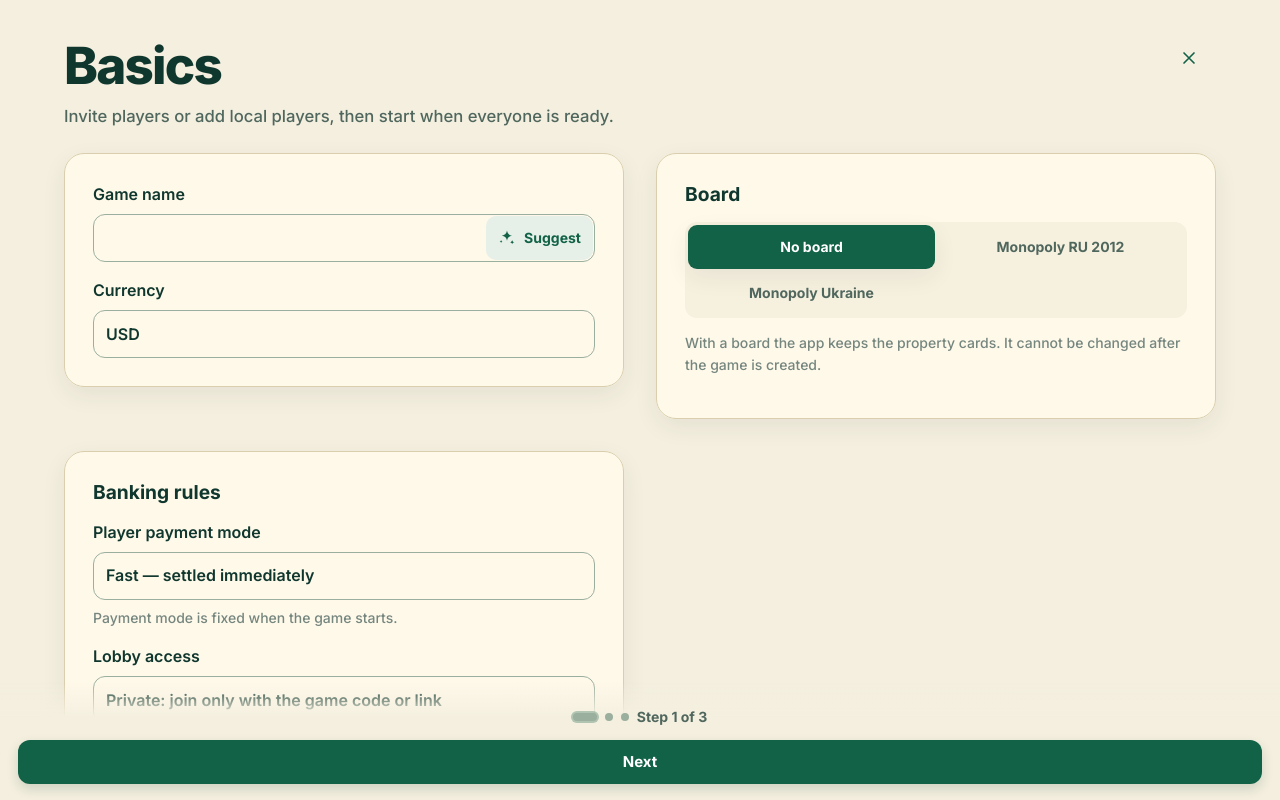
it: house rules › lists every rule unchecked by default
Type "Friday table" into the field labelled "Game name" at (344, 238), box [93,214,595,262]
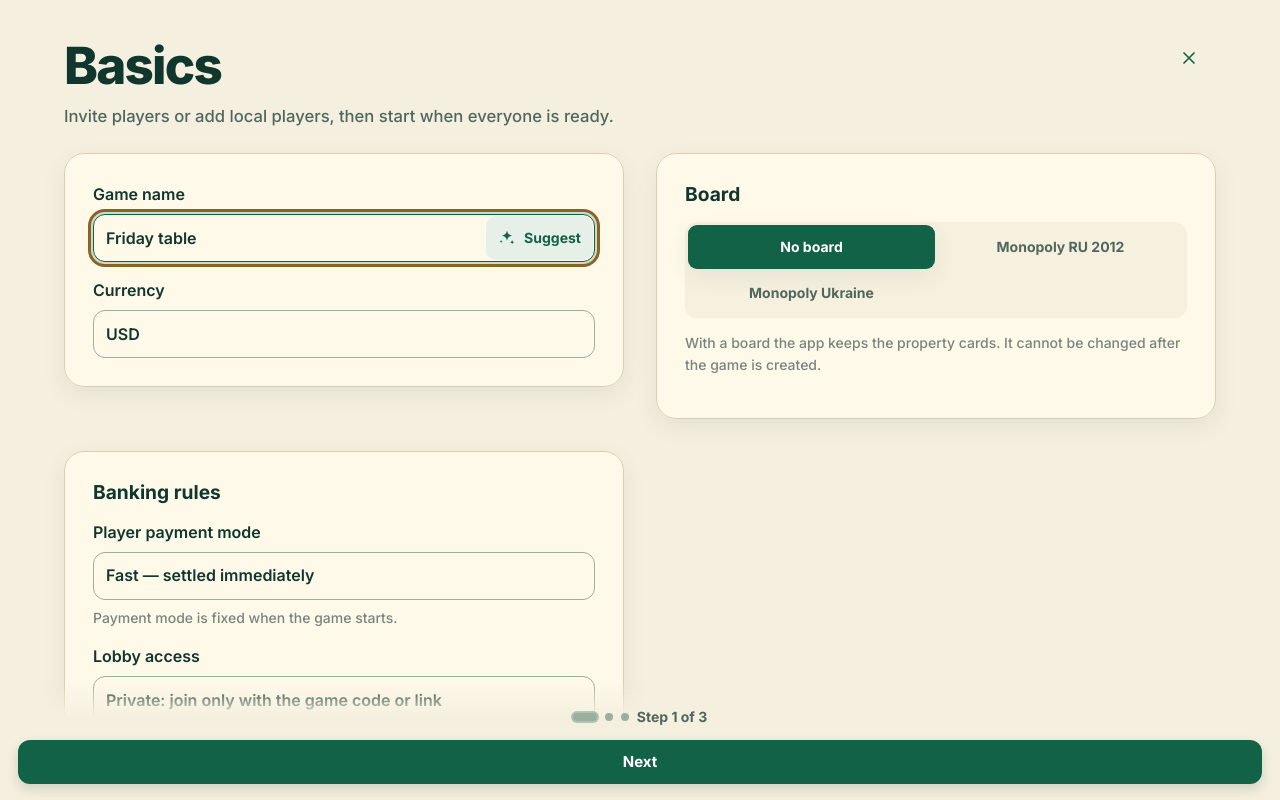
Click the button "Next" at (640, 762), box [18,740,1262,784]
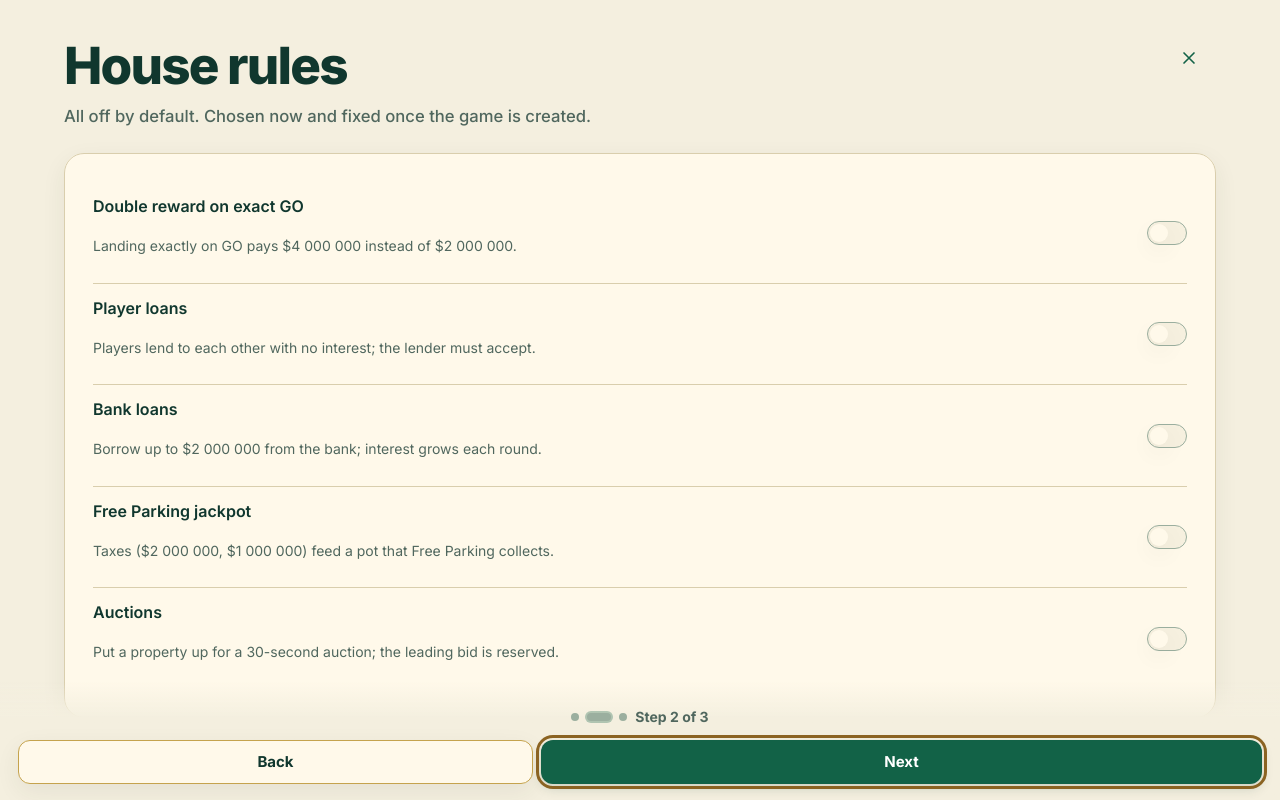
Check: the 1st switch named "Double reward on exact GO" is not checked, box [1147,221,1187,245]
Check: the 2nd switch named "Player loans" is not checked, box [1147,322,1187,346]
Check: the 3rd switch named "Bank loans" is not checked, box [1147,424,1187,448]
